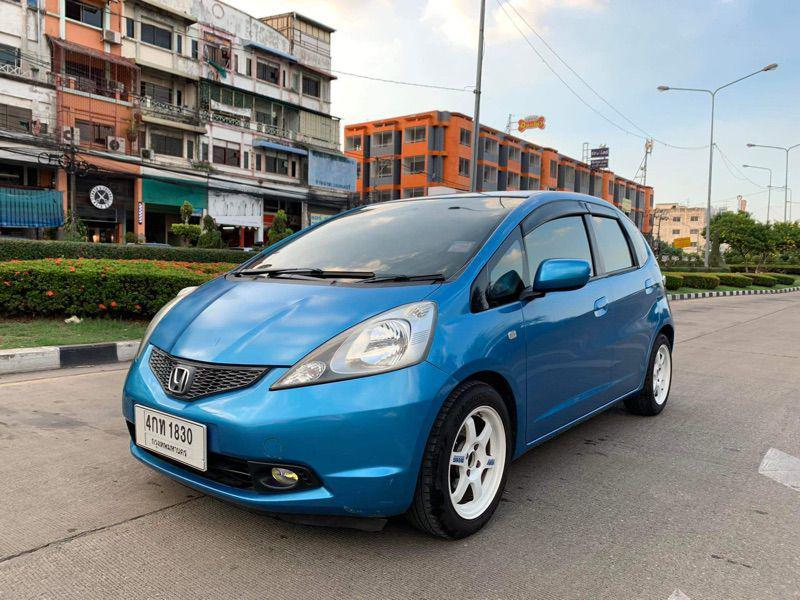Hatchback: (109, 182, 680, 544)
